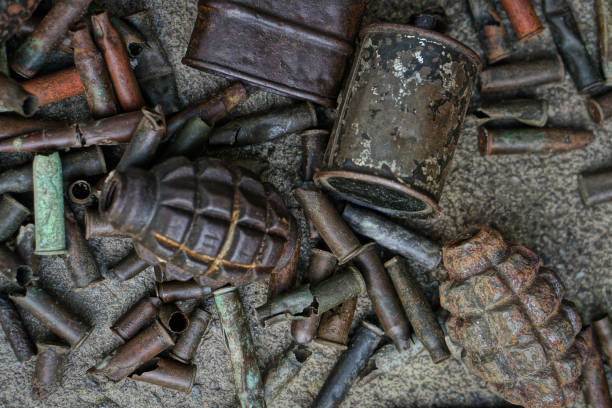e1: (437, 226, 597, 408), (95, 160, 308, 285)
